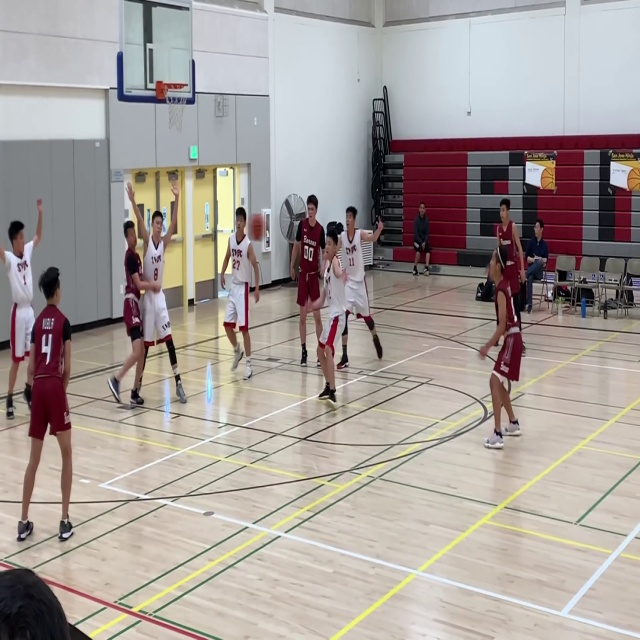Basketball: (249, 213, 265, 240)
